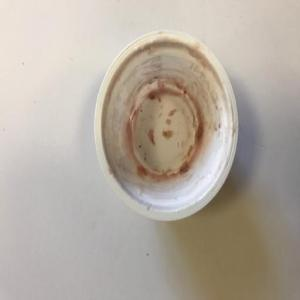Cup: (94, 28, 240, 223)
